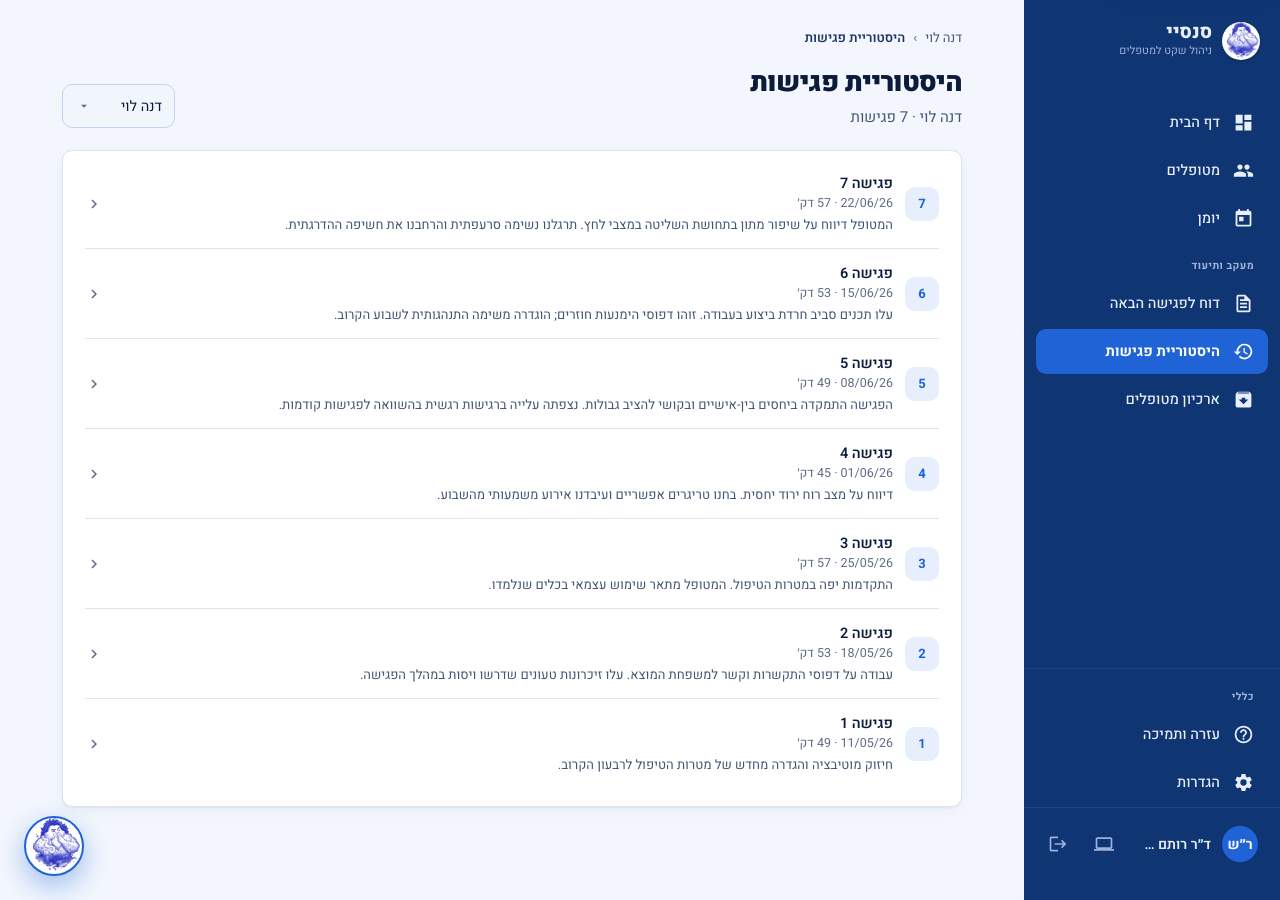
Test case: patient meeting history › opens session detail when clicking a meeting in history
Expected: the element that starts with "פגישה" is shown, [85,159,939,248]
Click the button with aria-label "פגישה 7" at (922, 204), box [85,173,939,234]
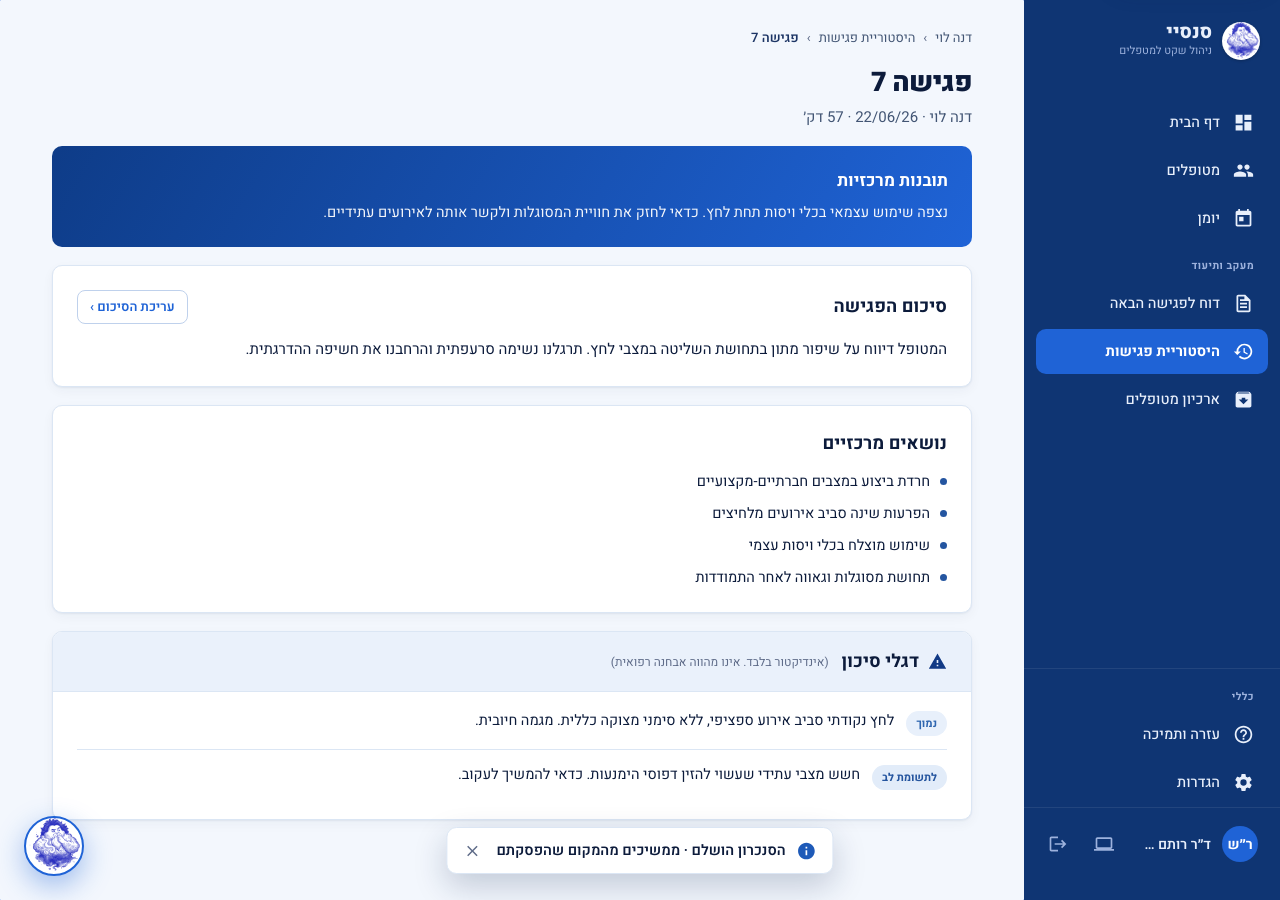
Now the heading "פגישה 7" is shown, box [871,63,972,102]
Now the text "תובנות מרכזיות" is shown, box [837,168,948,193]
Now the text "סיכום הפגישה" is shown, box [834,293,947,320]
